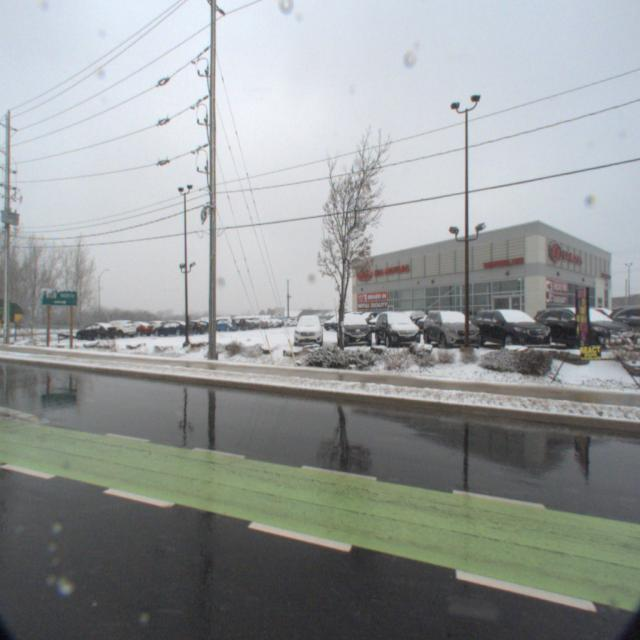Car: (524, 302, 640, 354), (466, 305, 556, 353), (419, 306, 484, 351), (370, 308, 424, 348), (333, 311, 374, 349), (290, 312, 322, 350), (410, 307, 454, 334), (383, 308, 427, 334), (362, 308, 406, 333), (345, 308, 389, 332), (69, 322, 118, 343), (90, 320, 136, 341), (146, 320, 192, 338), (319, 311, 356, 331), (112, 321, 154, 338), (206, 318, 236, 332)
